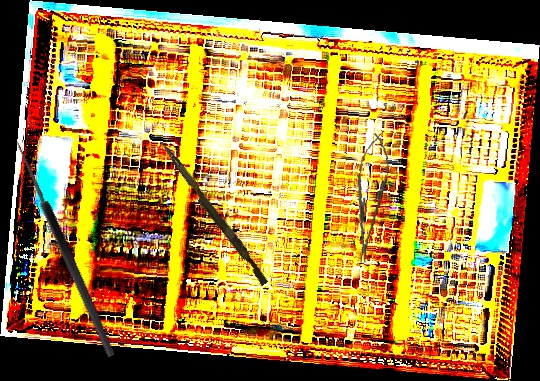Hook Surgical: (1, 139, 117, 363)
Needle Holder: (346, 131, 394, 266)
Pusher: (154, 139, 272, 287)
